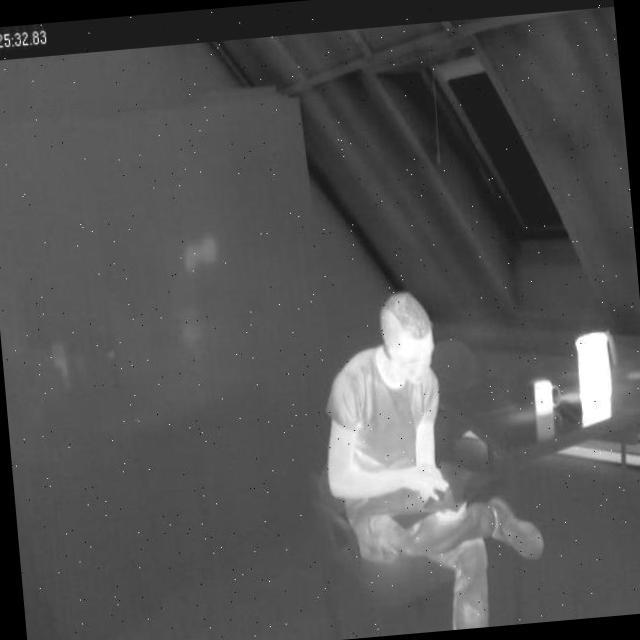person: (309, 274, 556, 640)
